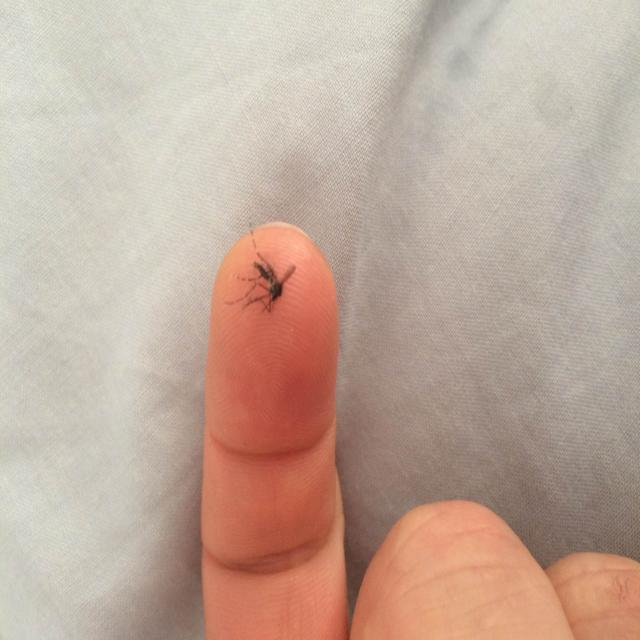albopictus: (219, 220, 308, 325)
